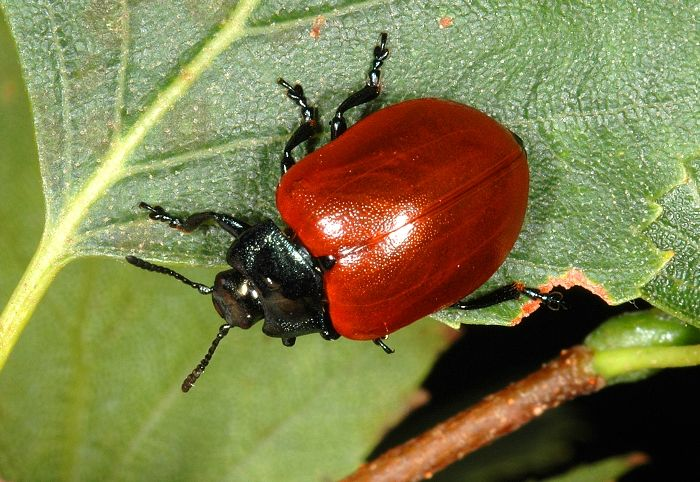Chrysomela_populi: (121, 25, 569, 411)
